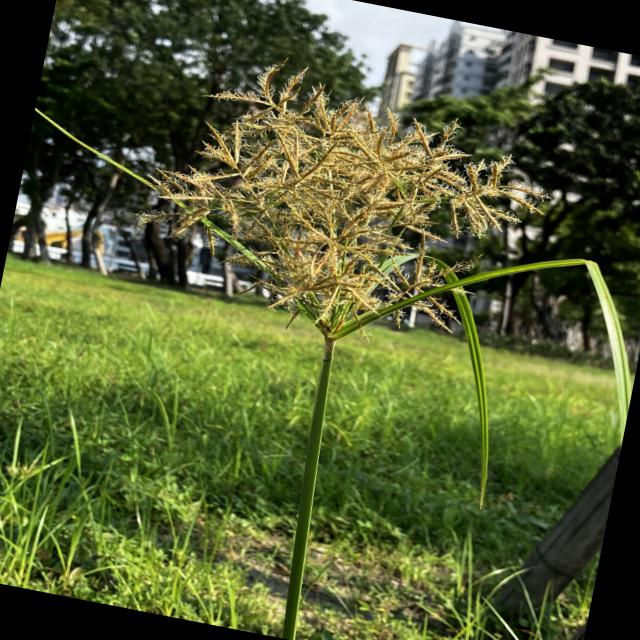cyperus: (113, 24, 574, 378)
